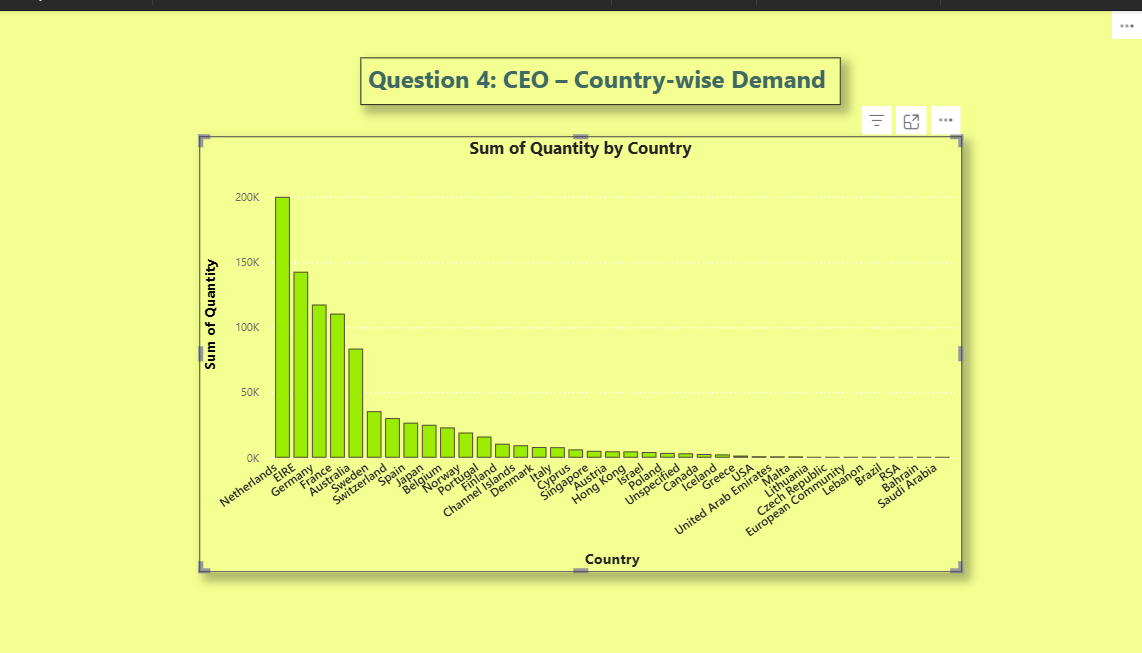

The dashboard page shown, as its layout file describes it:
{"tool":"powerbi","page":{"name":"Page 4","canvas":[1280,720],"ordinal":3},"visuals":[{"type":"shape","box":[0,0,1280,720.7],"z":0},{"type":"columnChart","fields":{"Category":["Online Retail.Country"],"Y":["Sum(Online Retail.Quantity)"]},"box":[229.6,140.5,848.7,485.6],"z":1000},{"type":"textbox","box":[409,52.9,534.3,52.9],"z":3000}]}

Visuals, with their boxes on the page's 1280x720 design canvas (x1, y1, x2, y2). These are canvas units, not pixel positions in the 1142x653 screenshot, which may show the page scaled, cropped or inside an application window:
shape: 0:0:1280:721
columnChart - Online Retail.Country x Sum(Online Retail.Quantity): 230:140:1078:626
textbox: 409:53:943:106
